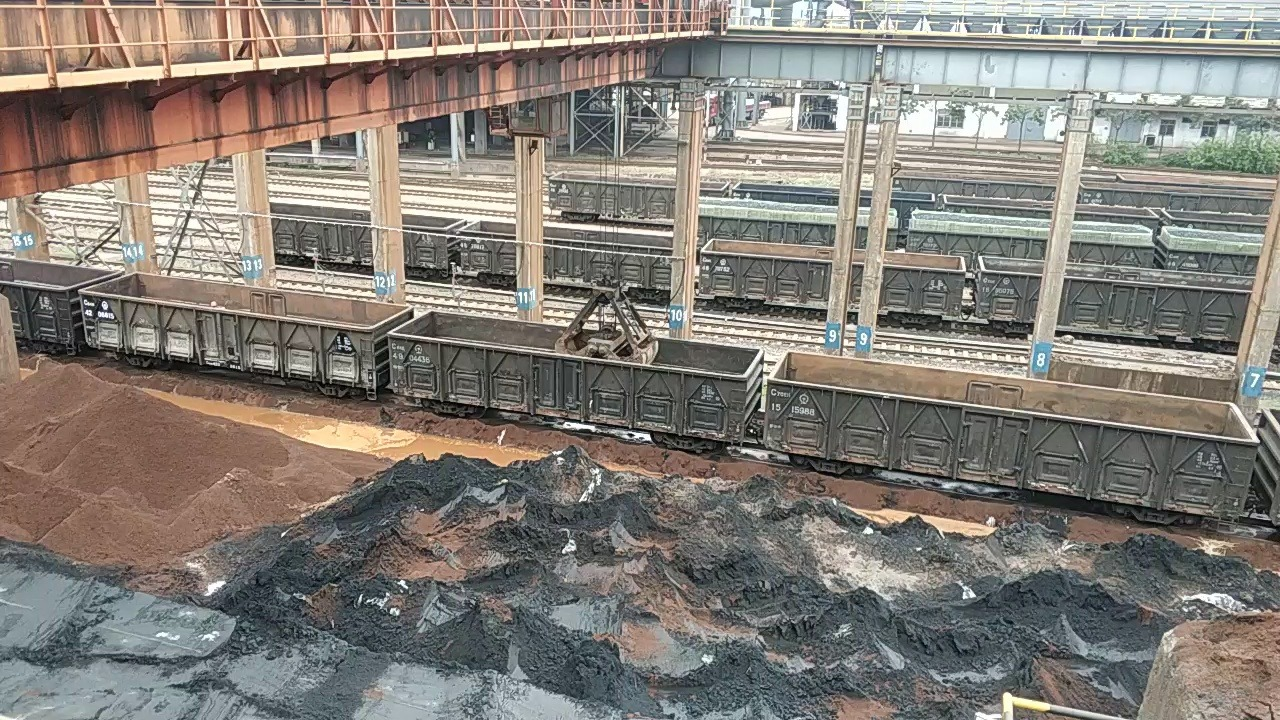grab: (548, 279, 661, 372)
